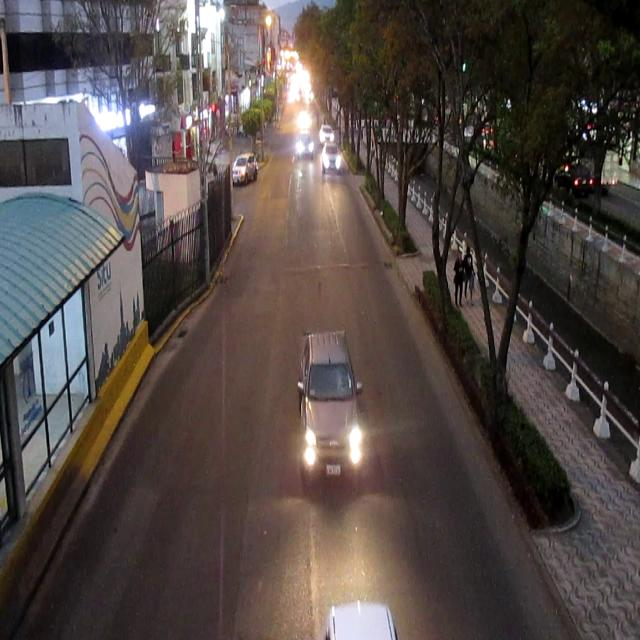CMT: (294, 327, 358, 487)
SUV: (233, 156, 258, 185)
